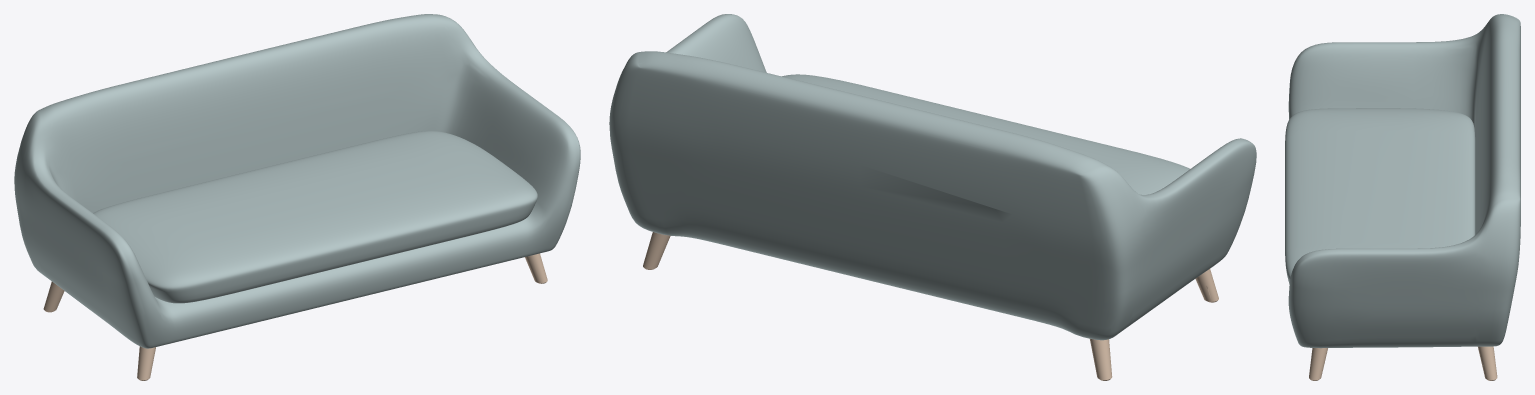
Rendered from 732_sofa_2seat.glb.
3 renders of one model, left to right at view 1: azimuth 30°, elevation 25°; view 2: azimuth 150°, elevation 25°; view 3: azimuth 270°, elevation 25°, orthographic. The views are drawn at different scales.
Visible parts, largest first — view 1: Body; view 2: Body; view 3: Body.
Part boxes in pixels (x1,y1,x2,y2): Body: [14, 14, 580, 380]; Body: [609, 14, 1256, 380]; Body: [1285, 14, 1520, 380].
Bounding box in the file's own units: 1.85 × 0.7632 × 0.8651.
